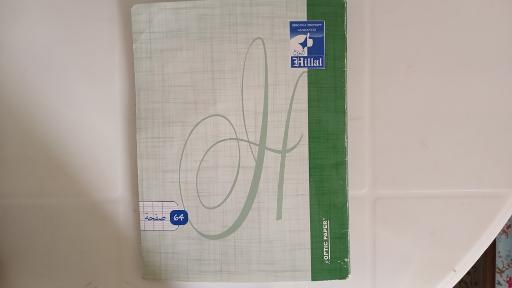notebook: (141, 1, 347, 278)
